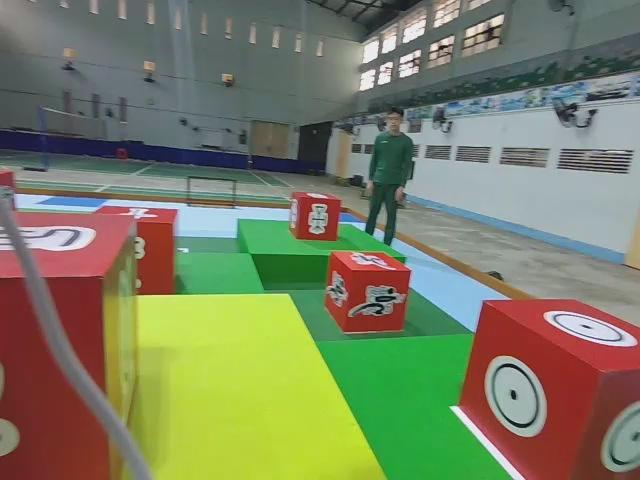R1: (321, 248, 413, 336)
R2 Real: (455, 296, 640, 480), (288, 189, 343, 243)
